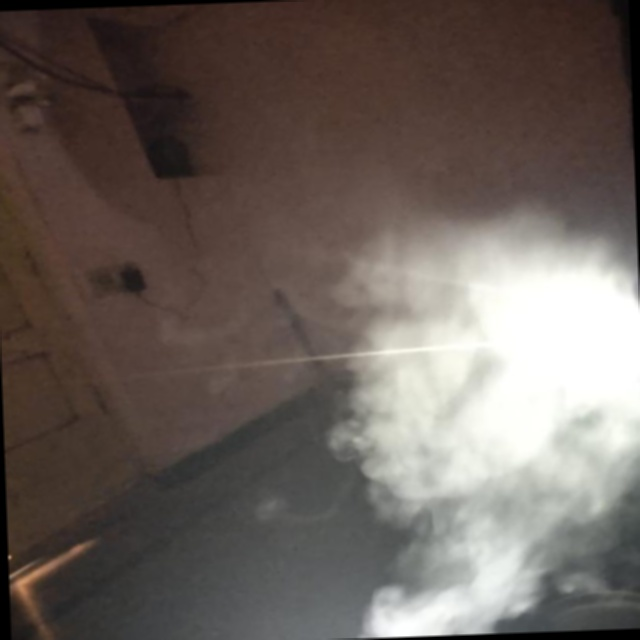smoke: (371, 213, 636, 572)
